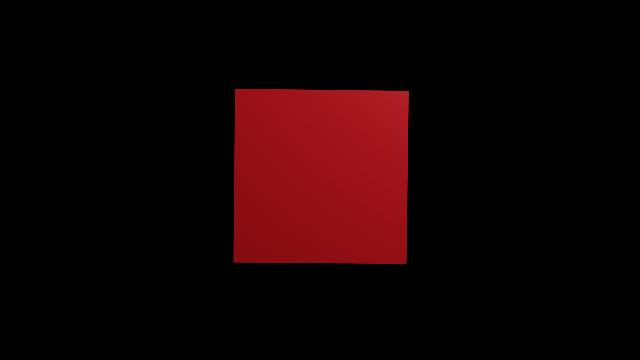Cube: (229, 81, 416, 278)
